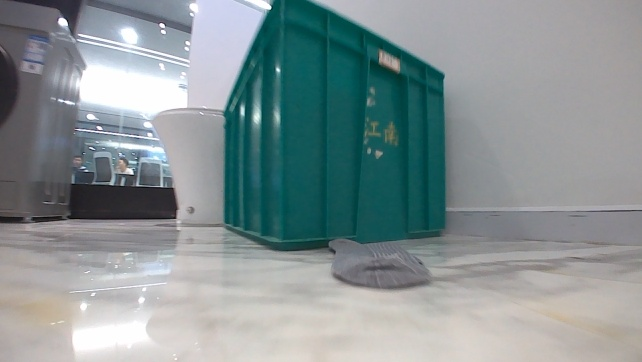socks: (322, 236, 435, 293)
toilet: (145, 105, 228, 226)
washing_machine1: (0, 0, 90, 224)
